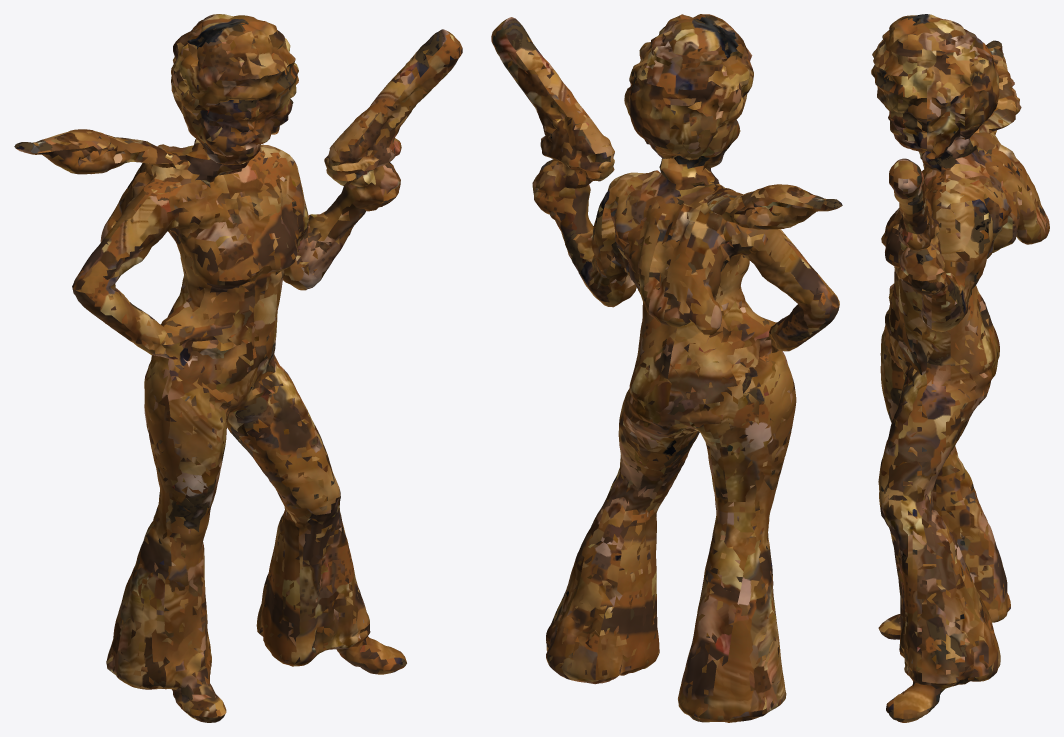
Rendered from custom-character.glb.
3 views of the same model, side by side, from view 1: azimuth 30°, elevation 25°; view 2: azimuth 150°, elevation 25°; view 3: azimuth 270°, elevation 25° (orthographic). The views are drawn at different scales.
Parts seen in each view (by area): view 1: geometry_0; view 2: geometry_0; view 3: geometry_0.
Boxes of the visible parts, x1=… form: geometry_0: x1=14, y1=14, x2=462, y2=722; geometry_0: x1=491, y1=14, x2=842, y2=722; geometry_0: x1=871, y1=14, x2=1049, y2=722.
Size of the model in its own units: 0.6156 by 1.01 by 0.2563.
1 material, 1 textured.
